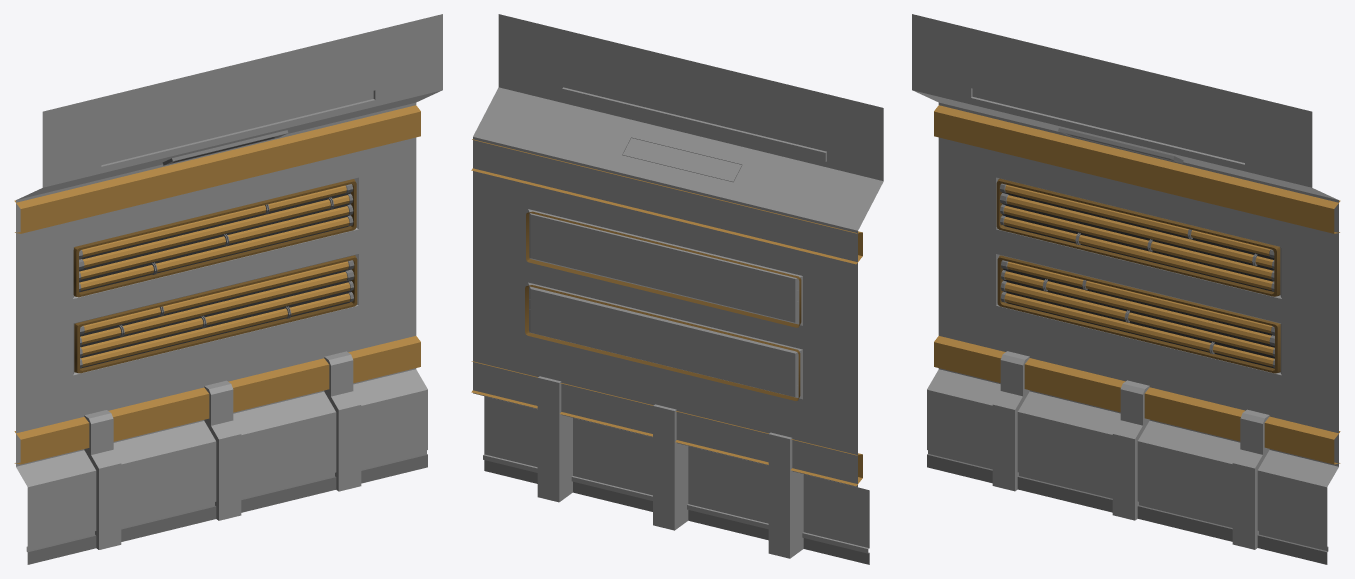
File: wall-5-2248720939.glb
3 renders of one model, left to right at view 1: azimuth 30°, elevation 25°; view 2: azimuth 150°, elevation 25°; view 3: azimuth 330°, elevation 25°, orthographic. The views are drawn at different scales.
Visible parts, largest first — view 1: Wall_5.obj; view 2: Wall_5.obj; view 3: Wall_5.obj.
Part boxes in pixels (bbox=[...]): Wall_5.obj: bbox=[14, 14, 442, 564]; Wall_5.obj: bbox=[471, 14, 883, 564]; Wall_5.obj: bbox=[912, 14, 1340, 564].
Size of the model in its own units: 4 by 4.43 by 0.5279.
